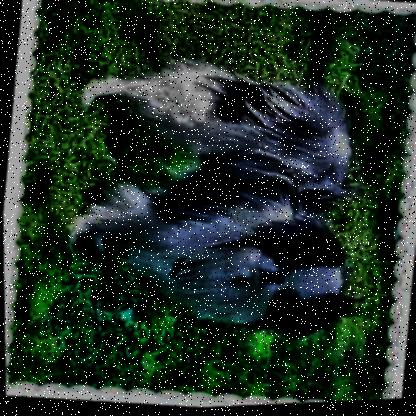dog: (168, 197, 356, 354)
